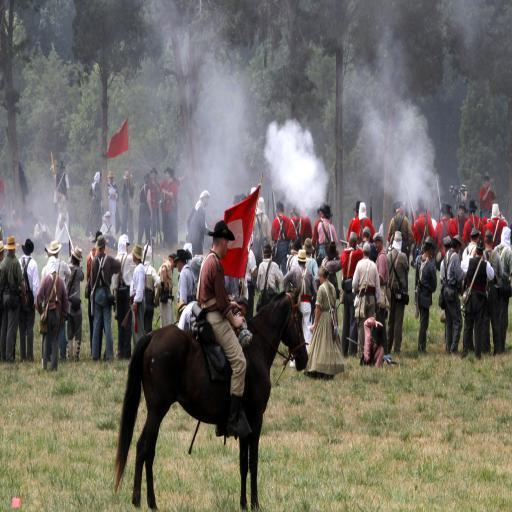horse: (110, 280, 310, 512)
